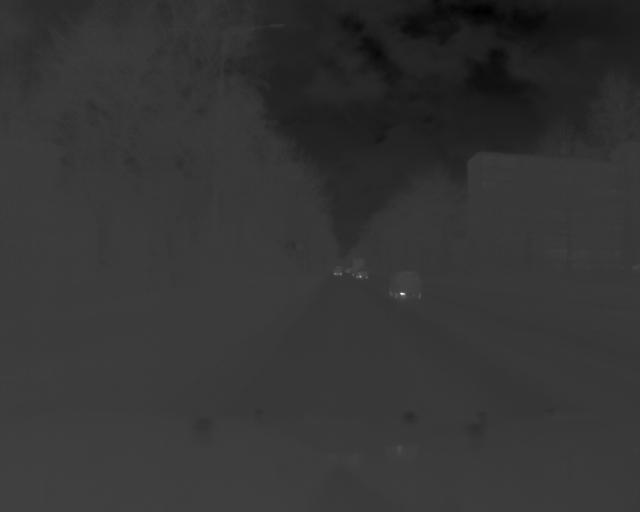car: (385, 270, 425, 301)
